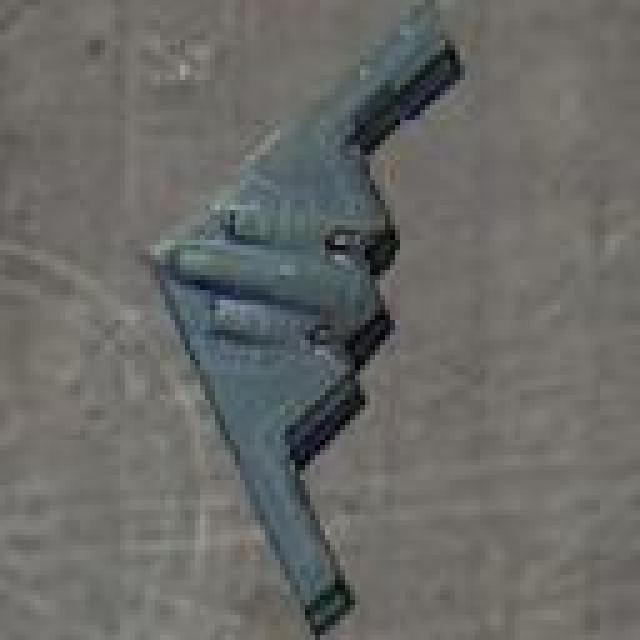B-2_TopDown: (135, 0, 465, 635)
